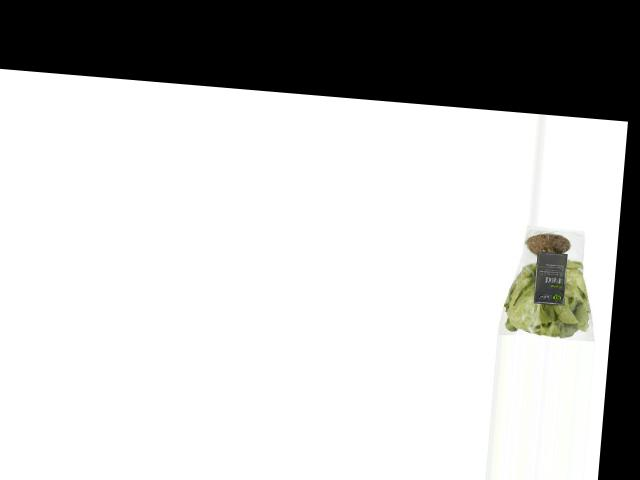lettuce: (498, 223, 601, 341)
